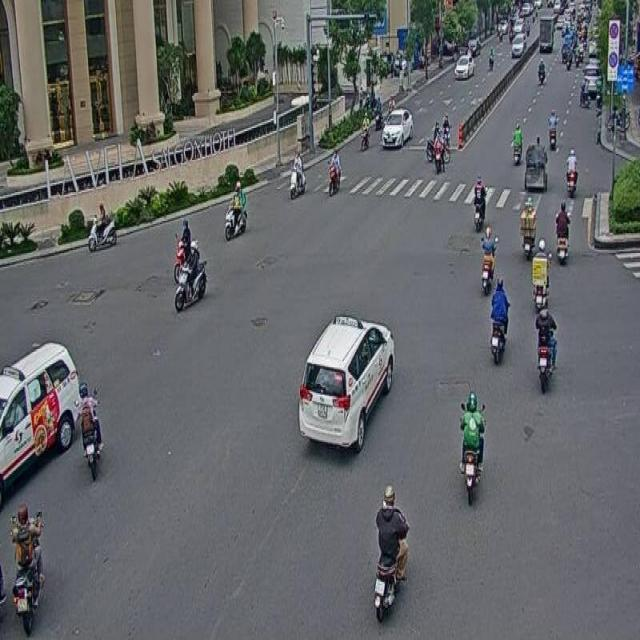car: (300, 317, 396, 459)
motorcycle: (370, 482, 412, 624), (8, 502, 45, 632), (458, 385, 486, 506), (74, 384, 106, 480), (174, 238, 207, 311), (534, 293, 558, 393), (488, 273, 510, 364), (86, 201, 117, 252), (222, 178, 246, 242), (530, 238, 550, 312), (480, 224, 498, 296), (518, 194, 536, 258), (554, 201, 571, 264), (472, 172, 485, 233), (290, 148, 304, 200), (328, 149, 341, 198)
